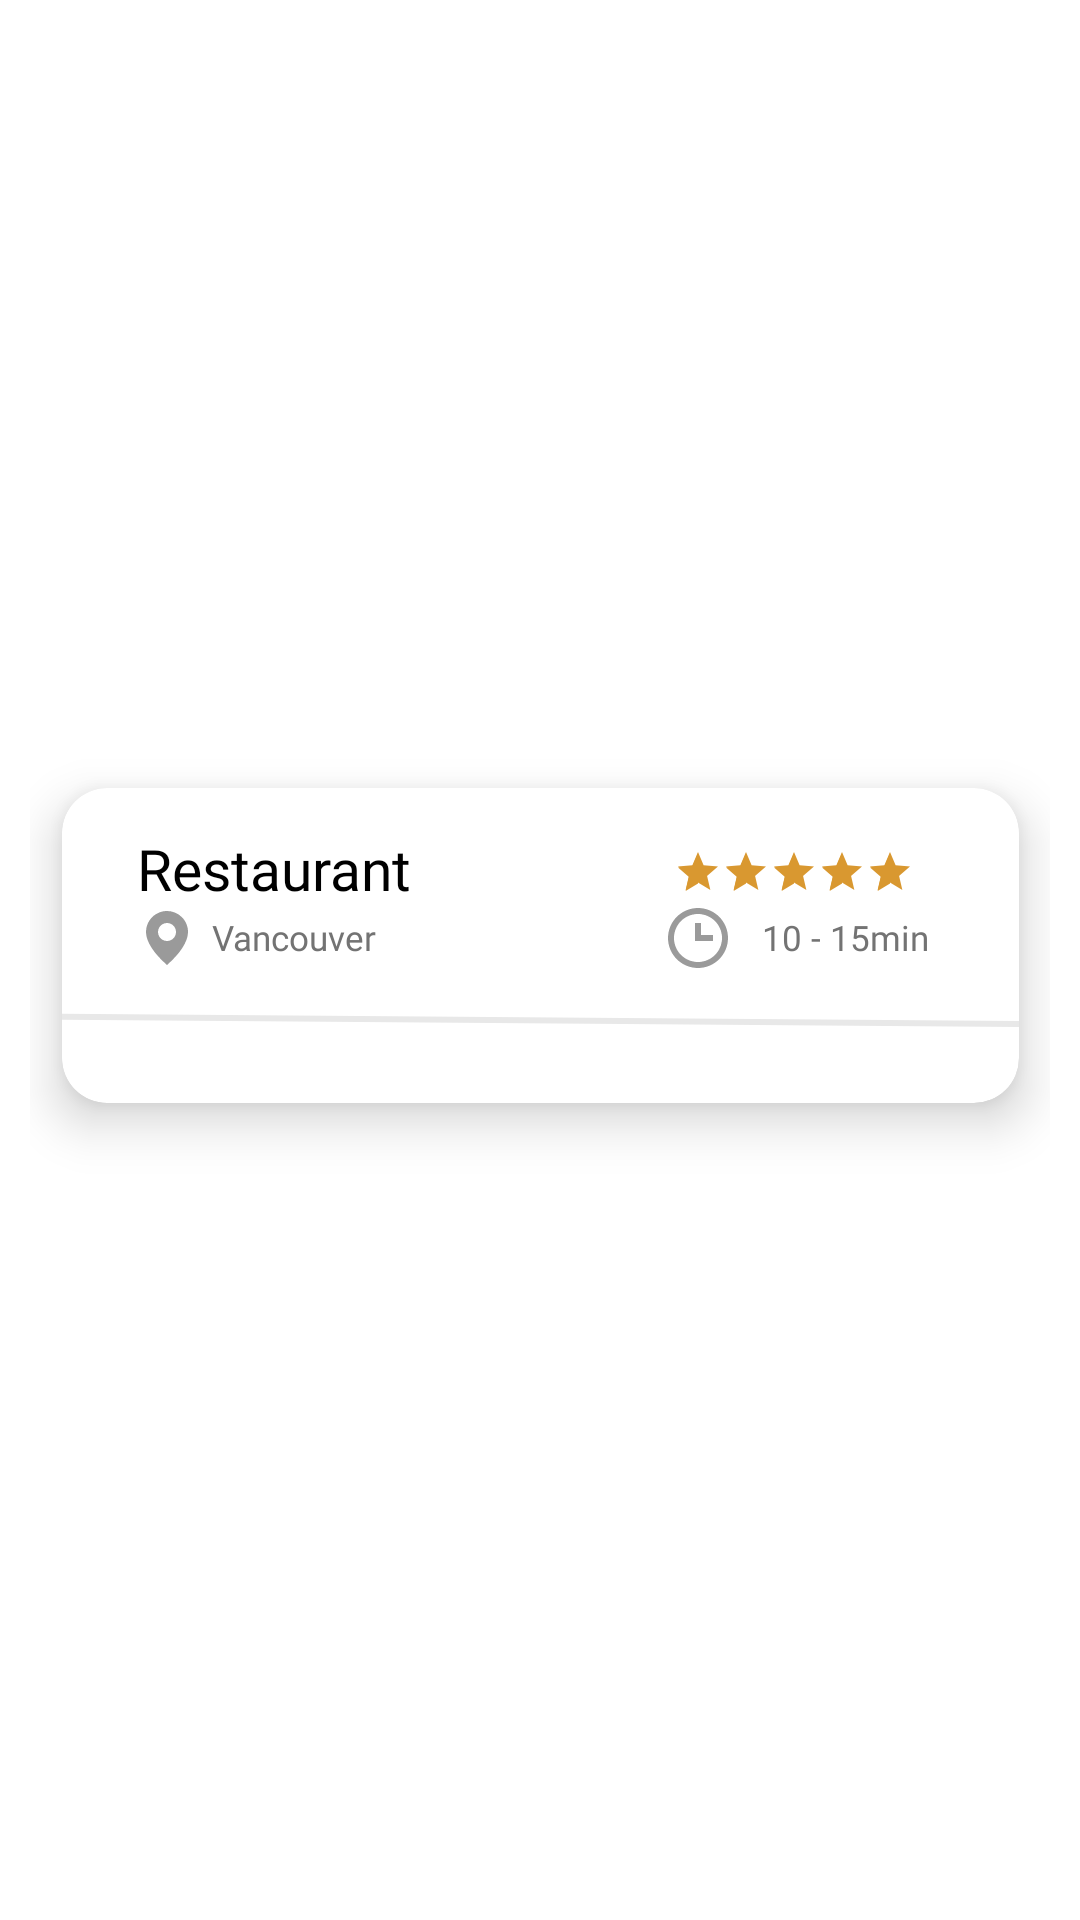

Named icons in this screenshot (1080w x 1920h) and their centers, point (x, y):
clock: point (698, 938)
location: point (167, 938)
